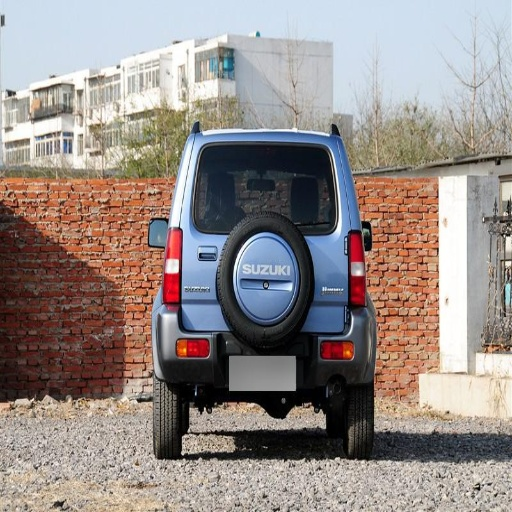back_bumper: (156, 305, 372, 384)
tailgate: (217, 251, 300, 322)
trunk: (188, 197, 351, 326)
